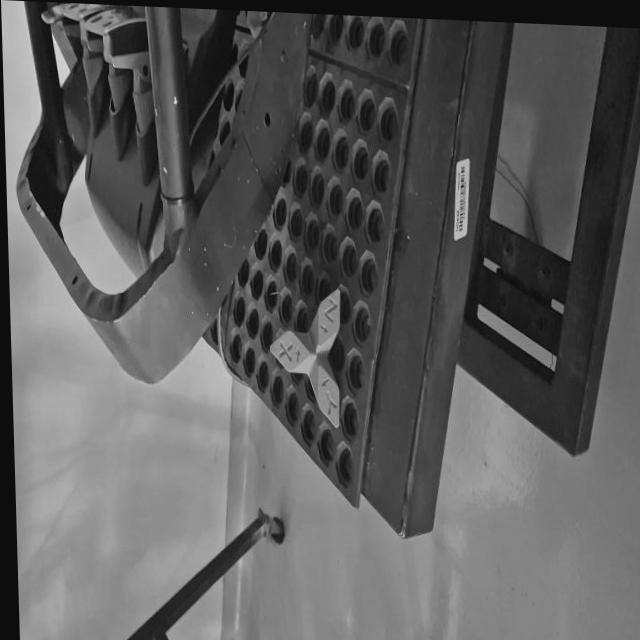eje: (266, 284, 344, 430)
